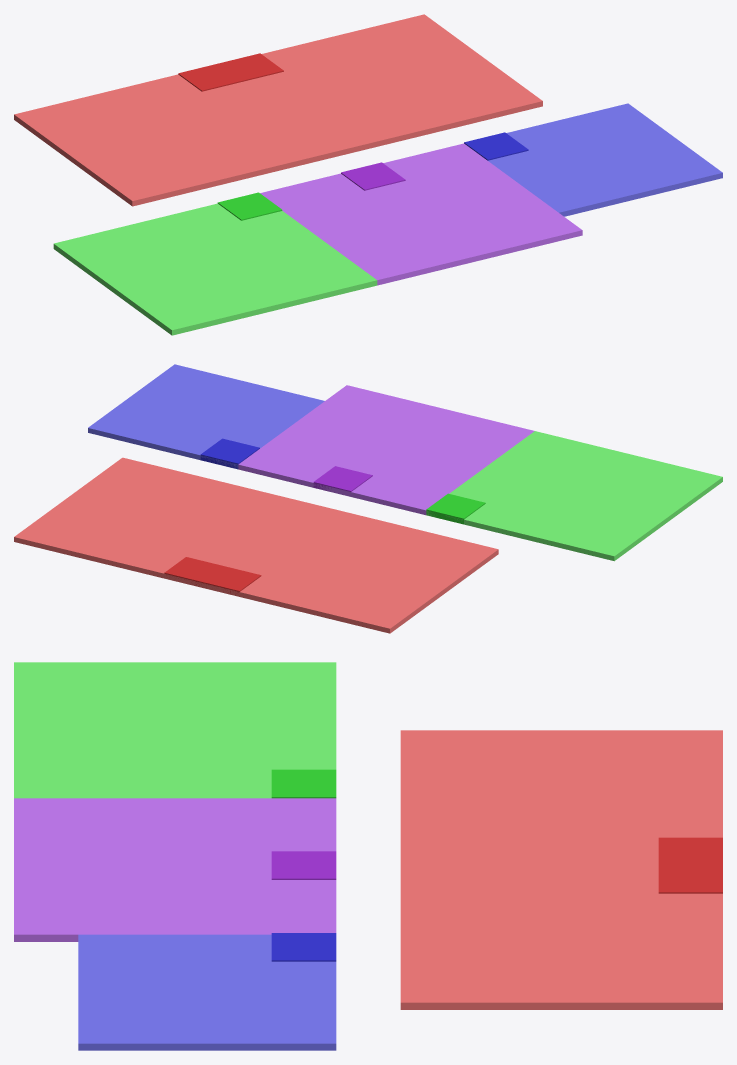
Rendered from PlayerBuildings.fbx.
3 views of the same model, one above another, from view 1: azimuth 30°, elevation 25°; view 2: azimuth 150°, elevation 25°; view 3: azimuth 270°, elevation 25° (orthographic). The views are drawn at different scales.
Parts seen in each view (by area): view 1: PlayerBuildings; view 2: PlayerBuildings; view 3: PlayerBuildings.
Part boxes in pixels (bbox=[...]): PlayerBuildings: bbox=[14, 14, 722, 335]; PlayerBuildings: bbox=[14, 364, 722, 633]; PlayerBuildings: bbox=[14, 662, 722, 1050].
Bounding box in the file's own units: 56 × 0.6 × 44.
